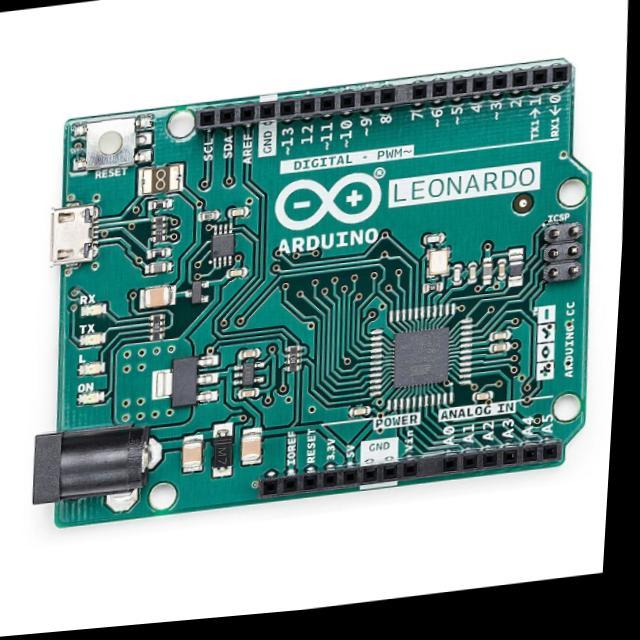Arduino-leonardo: (34, 59, 591, 529)
